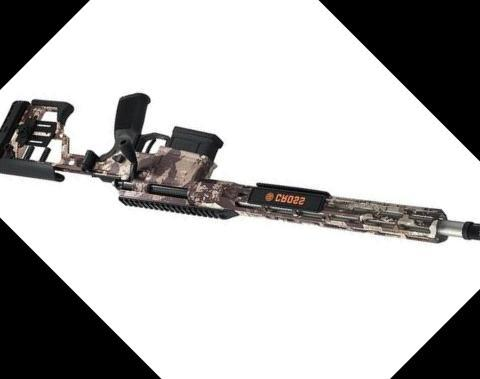larga: (0, 92, 480, 245)
